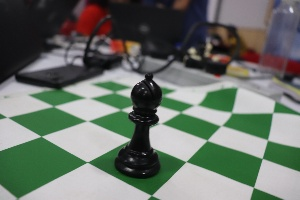black_bishop: (115, 63, 164, 182)
